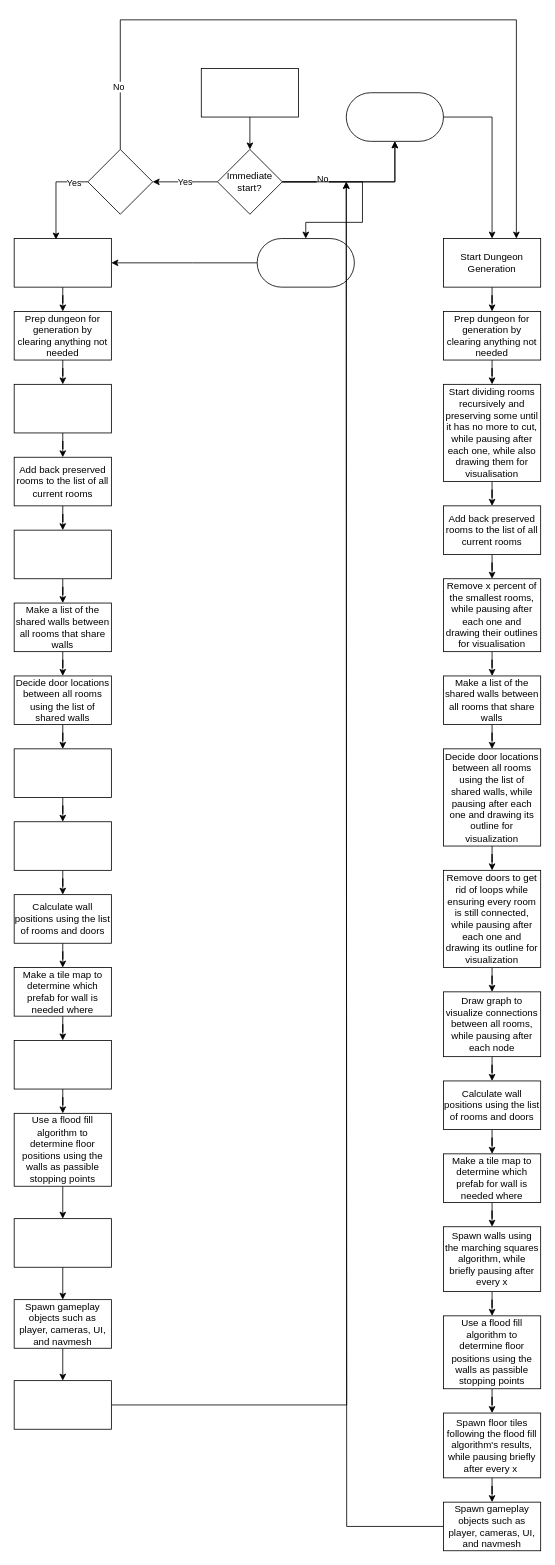
The diagram is 555 pixels wide and 1565 high, and some of its shapes have lost their labels. Each missing label, with the box of its shape:
Draw all room outlines for visualization: (13, 1380, 111, 1429)
Draw graph to visualize connections between all rooms: (13, 821, 111, 870)
Press Generate Dungeon: (345, 92, 443, 141)
Press Slow Generate Dungeon: (256, 238, 354, 287)
Remove doors to get rid of loops while ensuring every room is still connected: (13, 748, 111, 797)
Remove x percent of the smallest rooms: (13, 529, 111, 579)
Spawn floor tiles following the flood fill algorithm's results: (13, 1218, 111, 1267)
Spawn walls using the marching squares algorithm: (13, 1040, 111, 1089)
Start dividing rooms recursively and preserving some until it has no more to cut: (13, 384, 111, 433)
Start game: (200, 68, 298, 117)
Start Slow Dungeon Generation: (13, 238, 111, 287)
Use Slow Generation: (87, 149, 153, 214)
